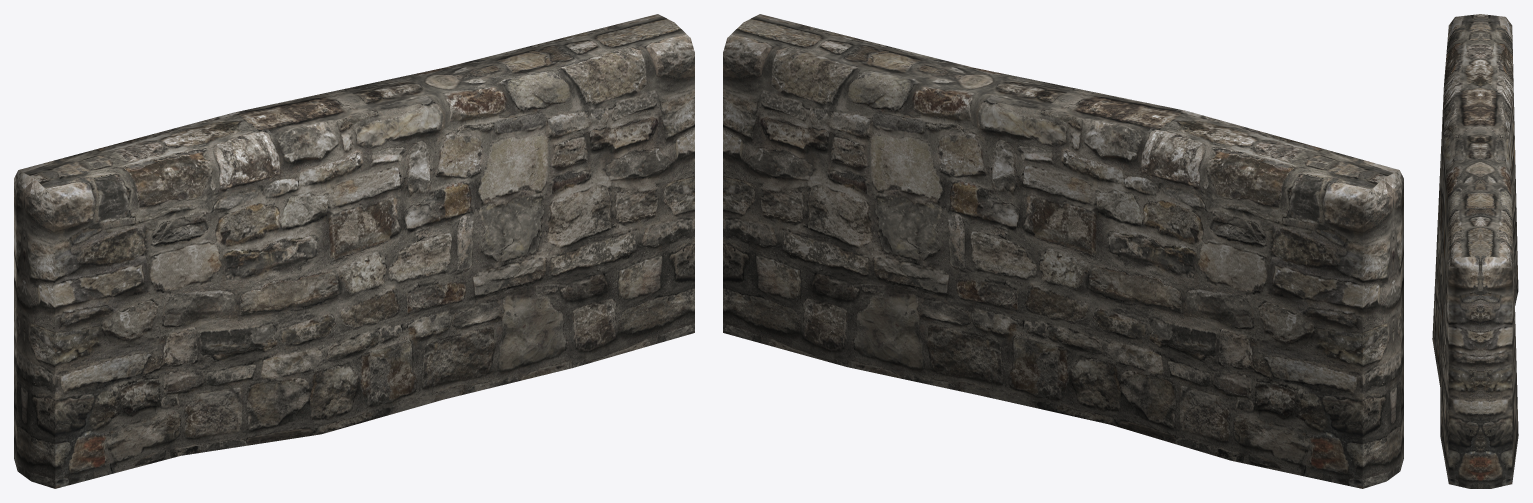
Rendered from StoneFence.dae.
3 views of the same model, side by side, from view 1: azimuth 30°, elevation 25°; view 2: azimuth 150°, elevation 25°; view 3: azimuth 270°, elevation 25° (orthographic). The views are drawn at different scales.
Visible parts, largest first — view 1: StoneFence1; view 2: StoneFence1; view 3: StoneFence1.
Part boxes in pixels (x1=…): StoneFence1: x1=14, y1=14, x2=694, y2=488; StoneFence1: x1=723, y1=14, x2=1403, y2=488; StoneFence1: x1=1432, y1=14, x2=1518, y2=488.
Bounding box in the file's own units: 4.14 × 1.81 × 0.6029.
Materials: 1 (1 with a texture image).
